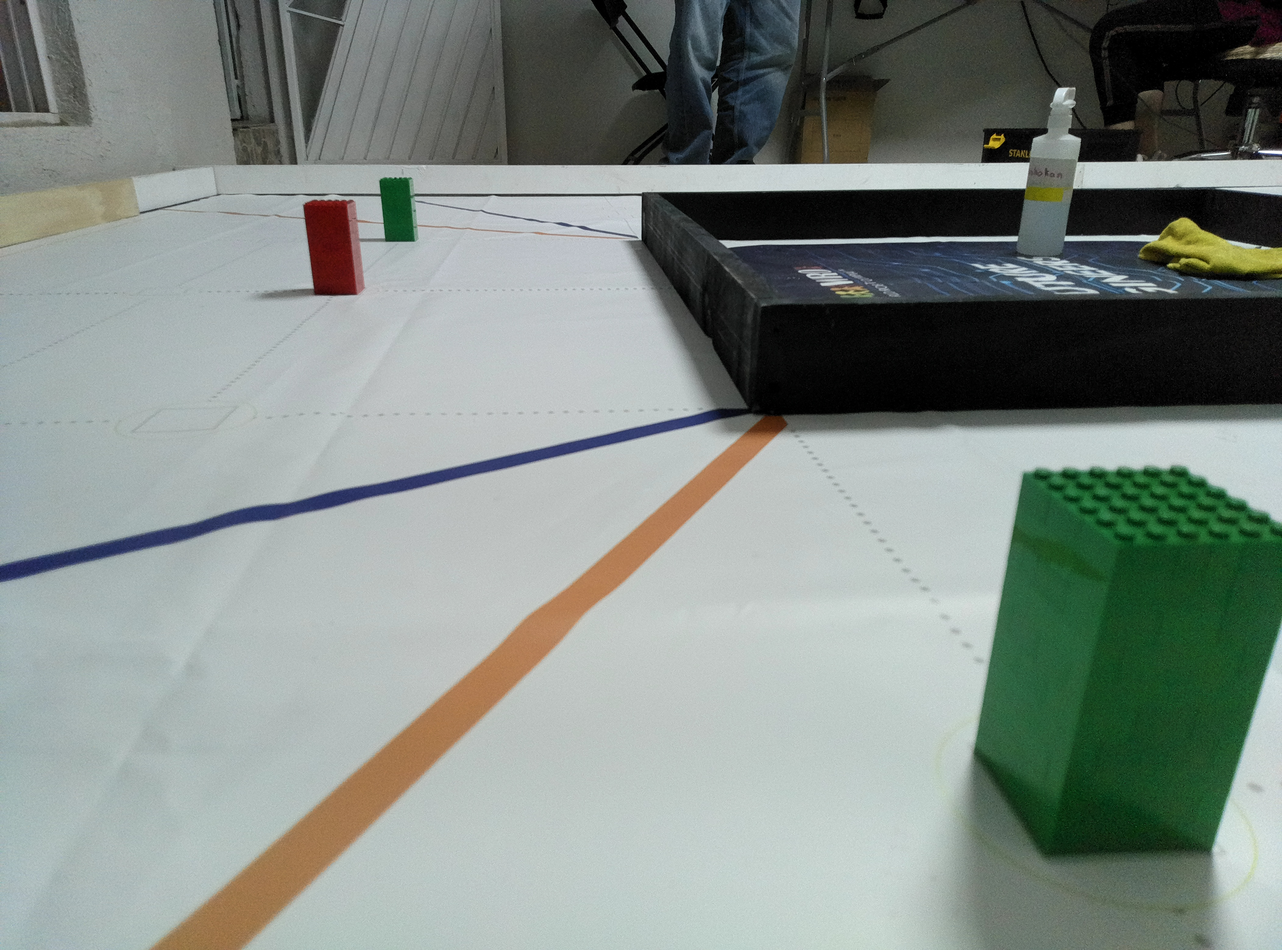greenbox: (968, 461, 1282, 865), (378, 177, 420, 243)
redbox: (301, 199, 366, 297)
